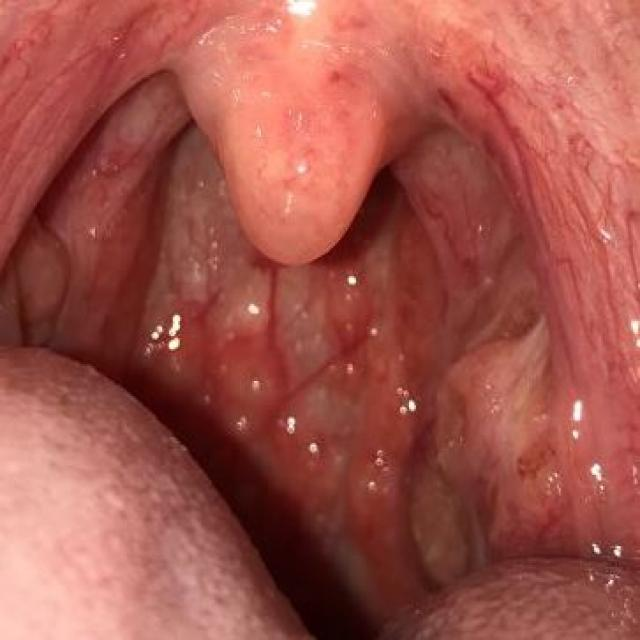Non Pharyngitis: (438, 298, 635, 559), (204, 36, 383, 258)
